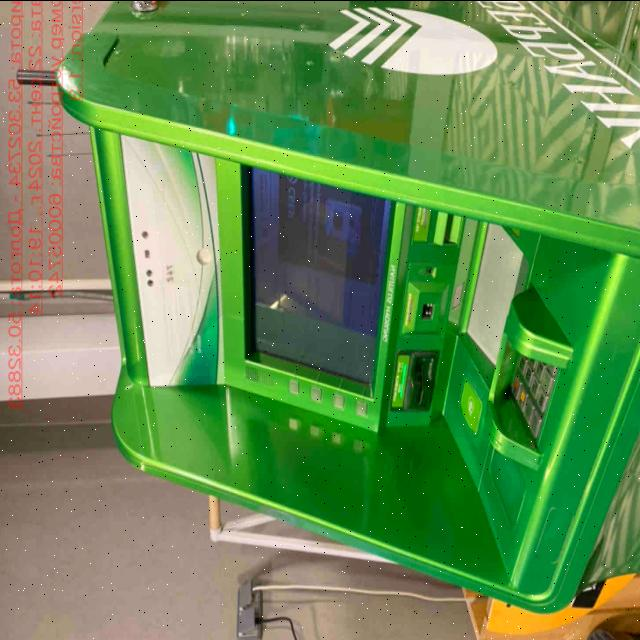bank: (55, 0, 640, 610)
